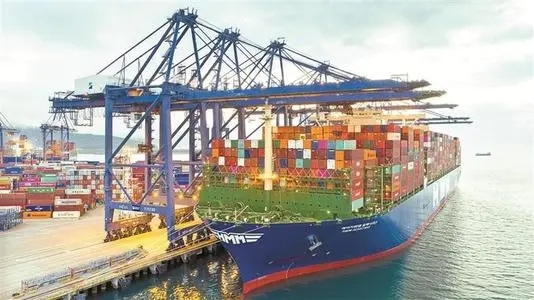Cargoship: (193, 97, 465, 285)
